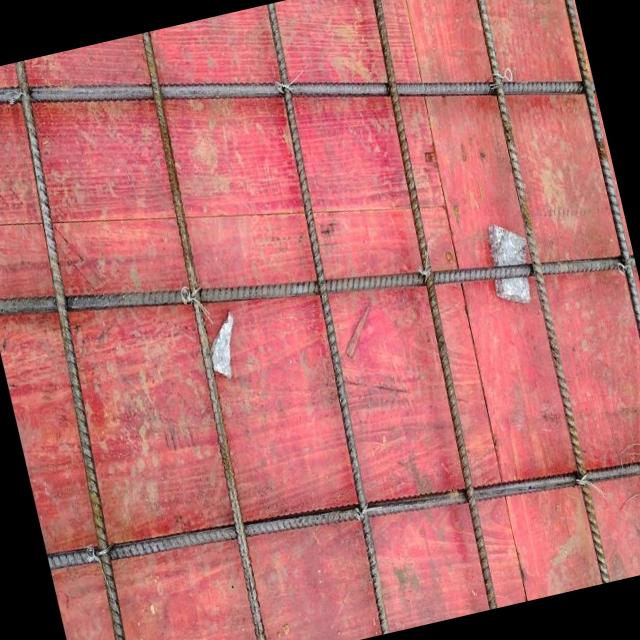ribbed bar: (0, 154, 637, 414), (0, 0, 596, 240), (46, 409, 640, 612), (236, 3, 418, 635), (115, 31, 294, 640), (344, 0, 521, 609), (0, 61, 169, 640), (457, 0, 621, 583), (545, 0, 640, 563)
